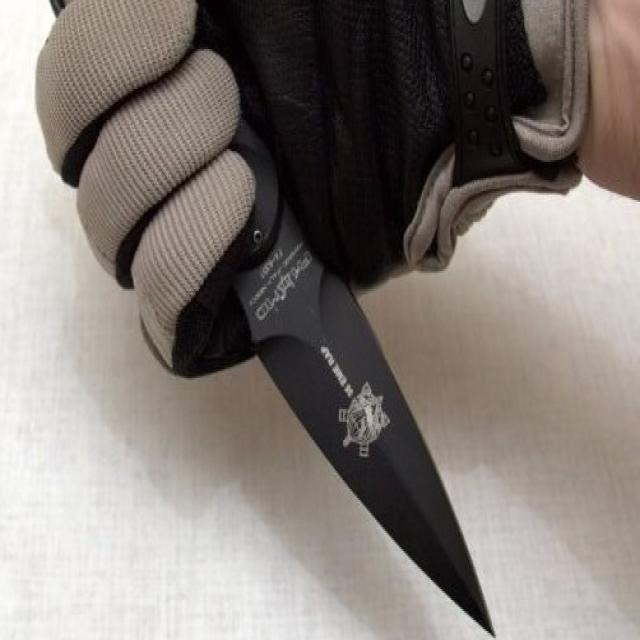knife: (238, 247, 509, 640)
